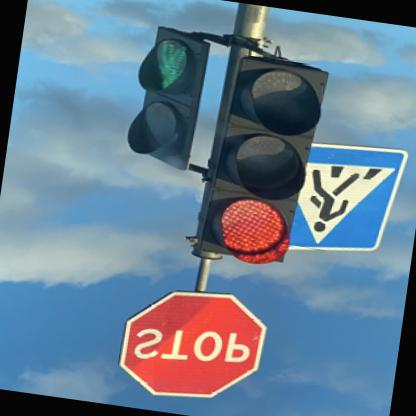crosswalk: (284, 136, 406, 266)
stop: (113, 280, 268, 411)
trafficlight: (194, 54, 328, 272), (124, 23, 210, 172)
